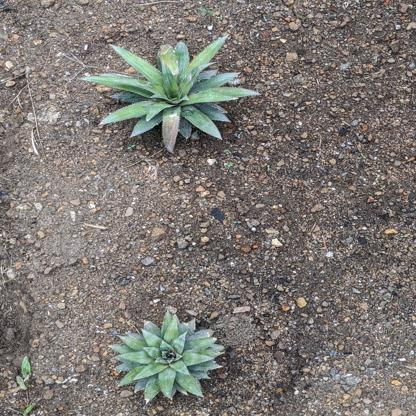pineapple: (80, 34, 261, 156), (109, 310, 225, 407)
